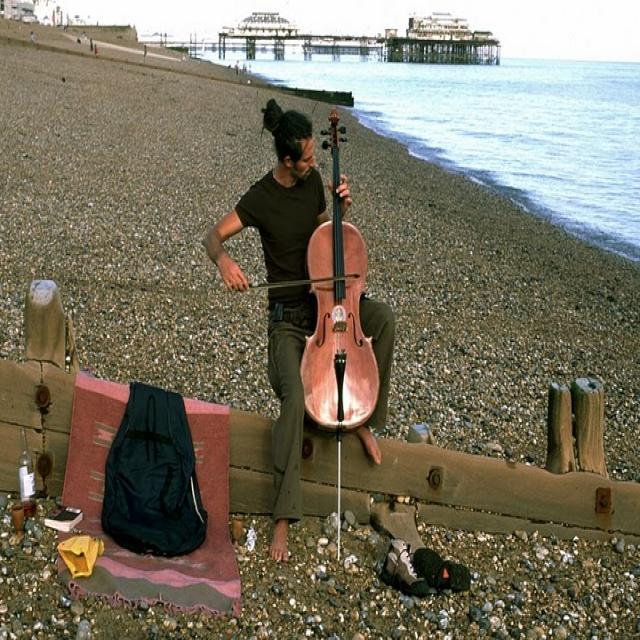cello: (299, 106, 381, 435)
